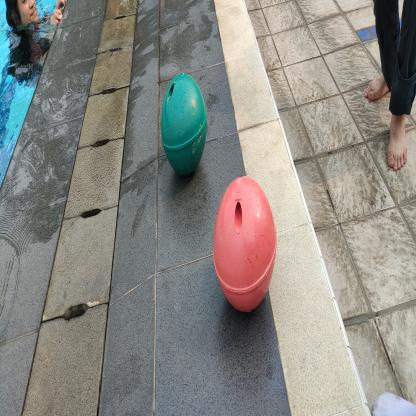green_buoy: (160, 70, 209, 180)
red_buoy: (212, 175, 278, 315)
